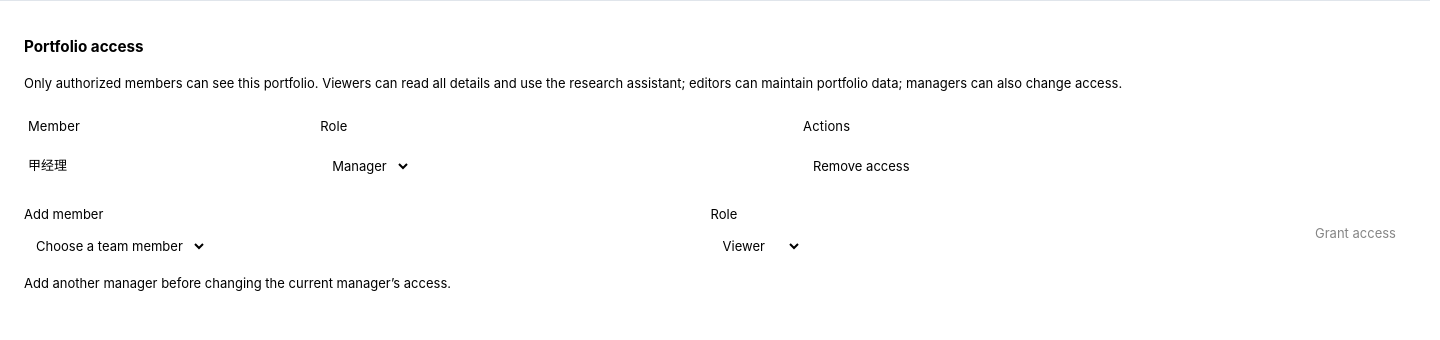
Test: Portfolio account boundaries › grants an explicitly selected member a role and displays manager handover conflicts
Expected: the text "甲经理" is shown, [24,143,316,189]
Select "乙经理" in the dropdown labelled "Add member". click: (116, 246)
box: [24,231,207,261]
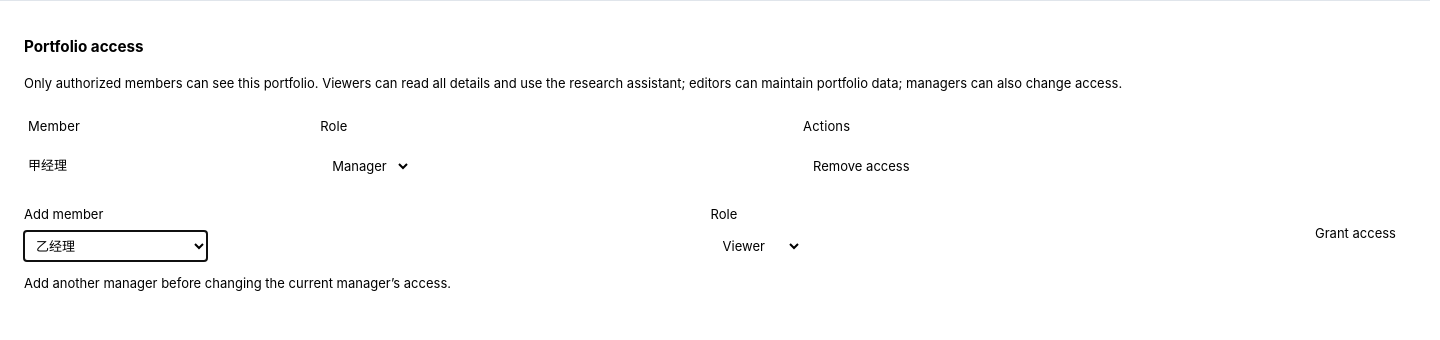
Select "Viewer" in the dropdown labelled "Role". click: (756, 246)
box: [710,231,802,261]
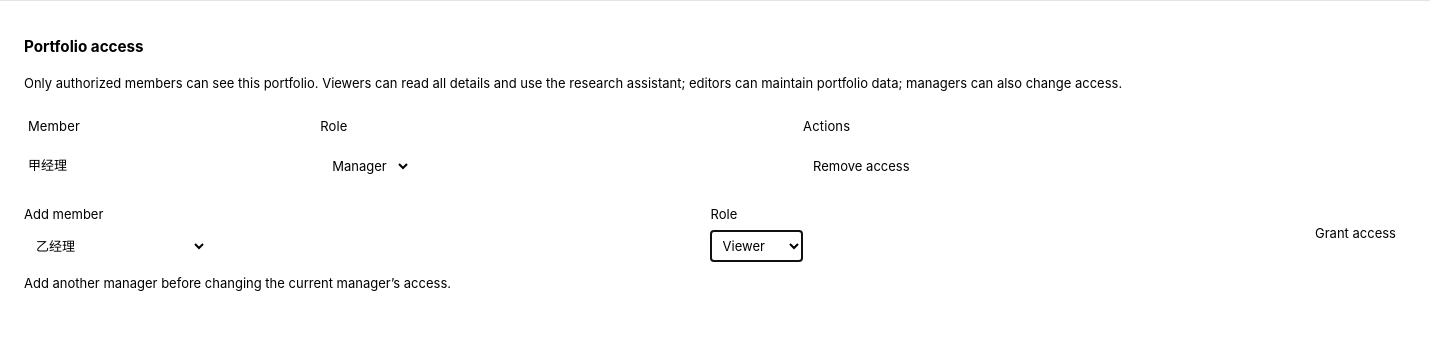
Click the button "Grant access". click: (1356, 233)
box: [1305,219,1406,247]
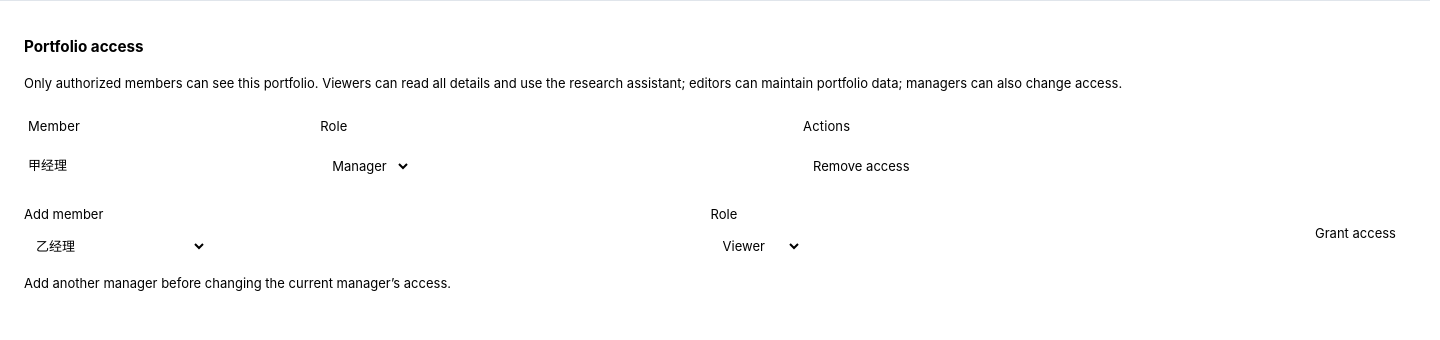
Click the button "Remove access". click: (861, 166)
box: [803,152,920,180]
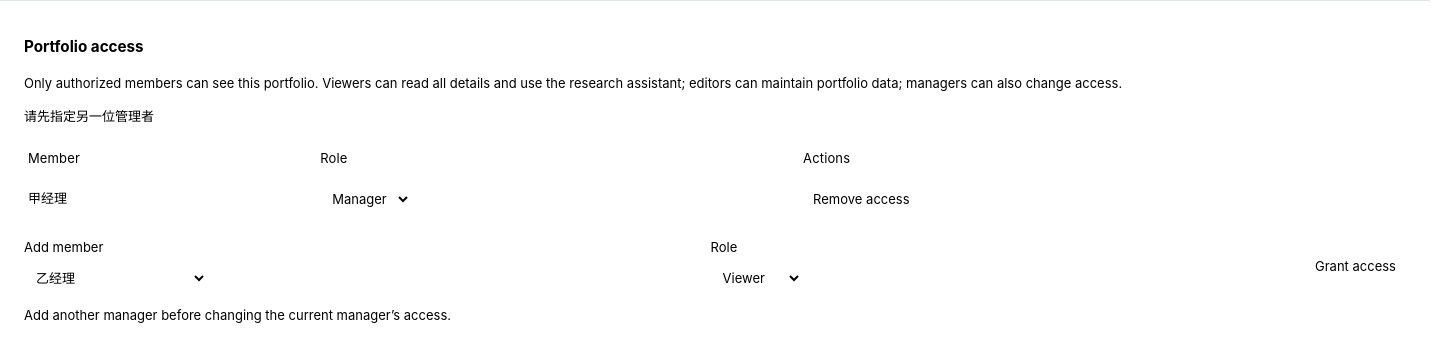
Expected: the message reads "请先指定另一位管理者", [24,108,154,124]
